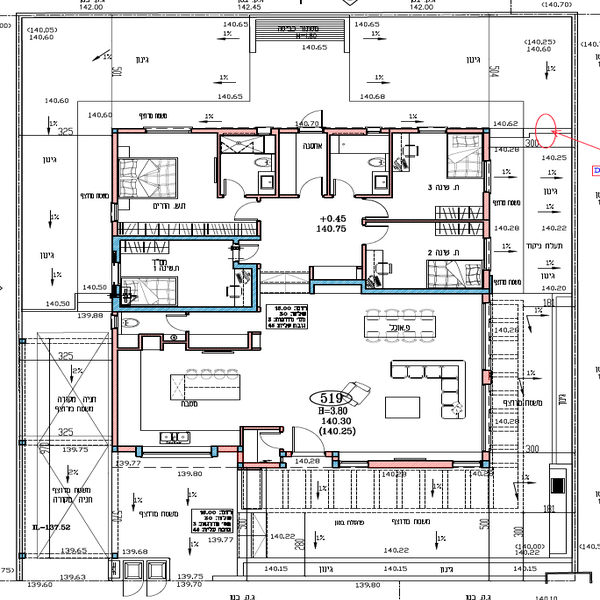door: (287, 420, 327, 460), (166, 311, 202, 339), (295, 106, 327, 134), (329, 176, 360, 204), (299, 168, 325, 201), (358, 199, 393, 222), (365, 225, 396, 247), (222, 176, 247, 203), (262, 432, 290, 453)
room: (261, 287, 496, 469), (105, 304, 265, 456), (278, 127, 493, 220), (117, 124, 286, 235), (113, 232, 263, 316), (361, 208, 492, 295)
wall: (105, 332, 124, 455), (109, 231, 262, 245), (108, 303, 264, 316), (360, 214, 487, 225), (266, 131, 284, 200), (370, 459, 457, 473), (366, 284, 497, 292), (111, 124, 124, 204), (384, 135, 400, 197), (197, 125, 257, 141), (323, 131, 336, 204), (244, 262, 262, 314), (479, 190, 495, 238), (214, 136, 227, 195), (238, 460, 285, 473), (332, 126, 369, 141), (478, 132, 494, 158), (477, 367, 496, 387), (386, 124, 418, 134), (483, 273, 487, 311)
window: (141, 444, 211, 459), (144, 118, 193, 135), (480, 235, 500, 273), (455, 458, 482, 471), (480, 162, 492, 190)
